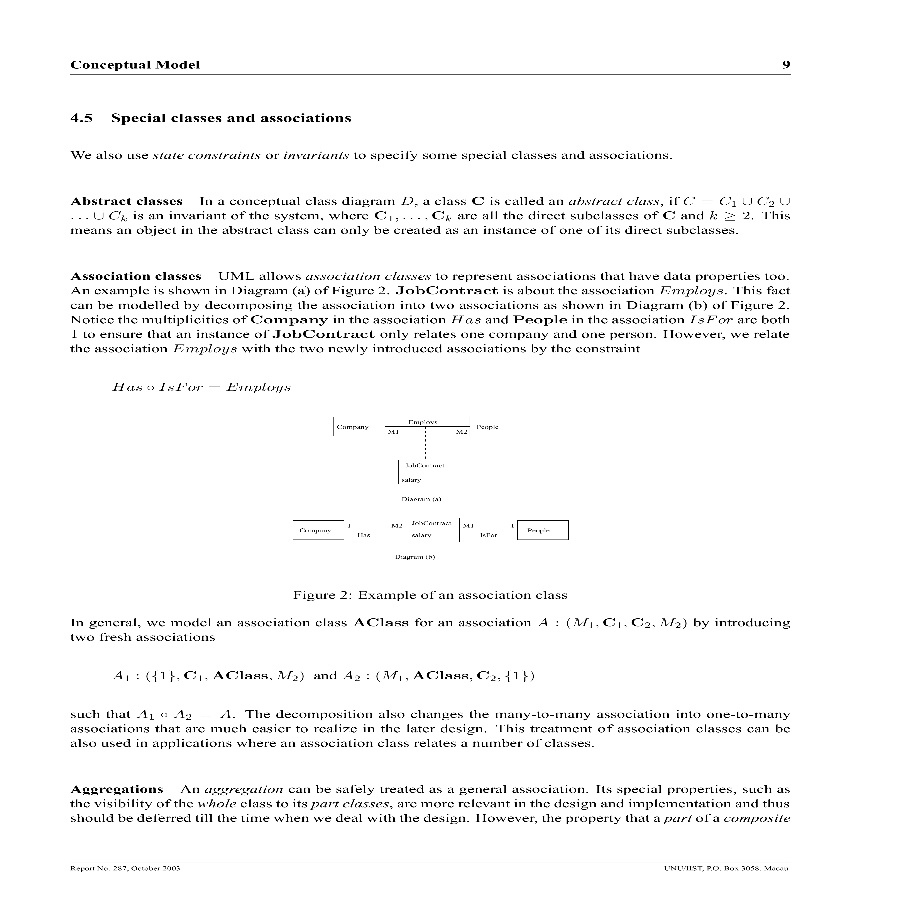eq: (109, 667, 309, 687), (343, 668, 541, 684), (107, 378, 293, 395)
